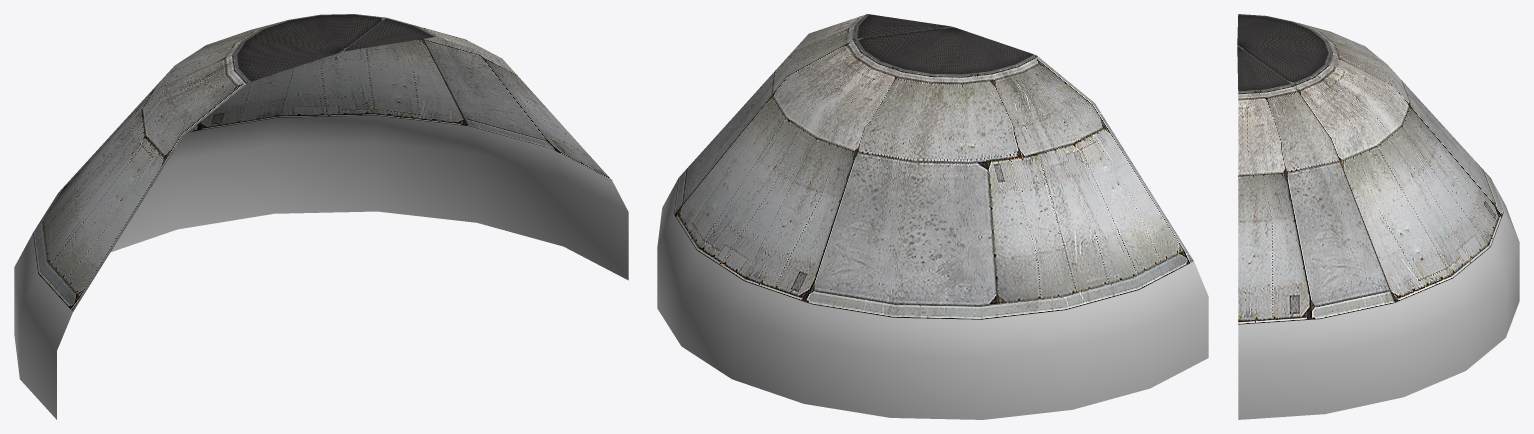
Rendered from Roof_B_Short2mts_11.fbx.
The picture shows the model from 3 angles, left to right: view 1: azimuth 30°, elevation 25°; view 2: azimuth 150°, elevation 25°; view 3: azimuth 270°, elevation 25°; orthographic projection. The views are drawn at different scales.
Visible parts, largest first — view 1: Roof_B_Short2mts_11; view 2: Roof_B_Short2mts_11; view 3: Roof_B_Short2mts_11.
Boxes of the visible parts, left/top/right/bottom form: Roof_B_Short2mts_11: left=14, top=14, right=628, bottom=419; Roof_B_Short2mts_11: left=657, top=14, right=1208, bottom=419; Roof_B_Short2mts_11: left=1237, top=14, right=1519, bottom=419.
Size of the model in its own units: 400 by 200 by 201.
